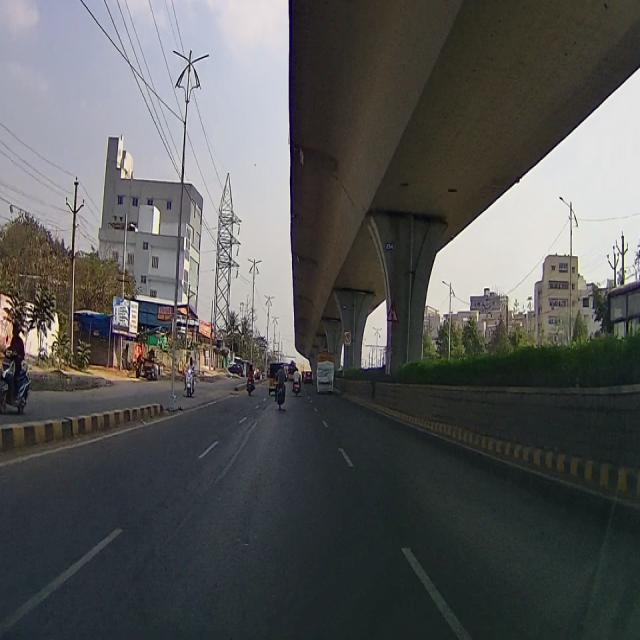gap-in-median: (386, 296, 399, 328)
